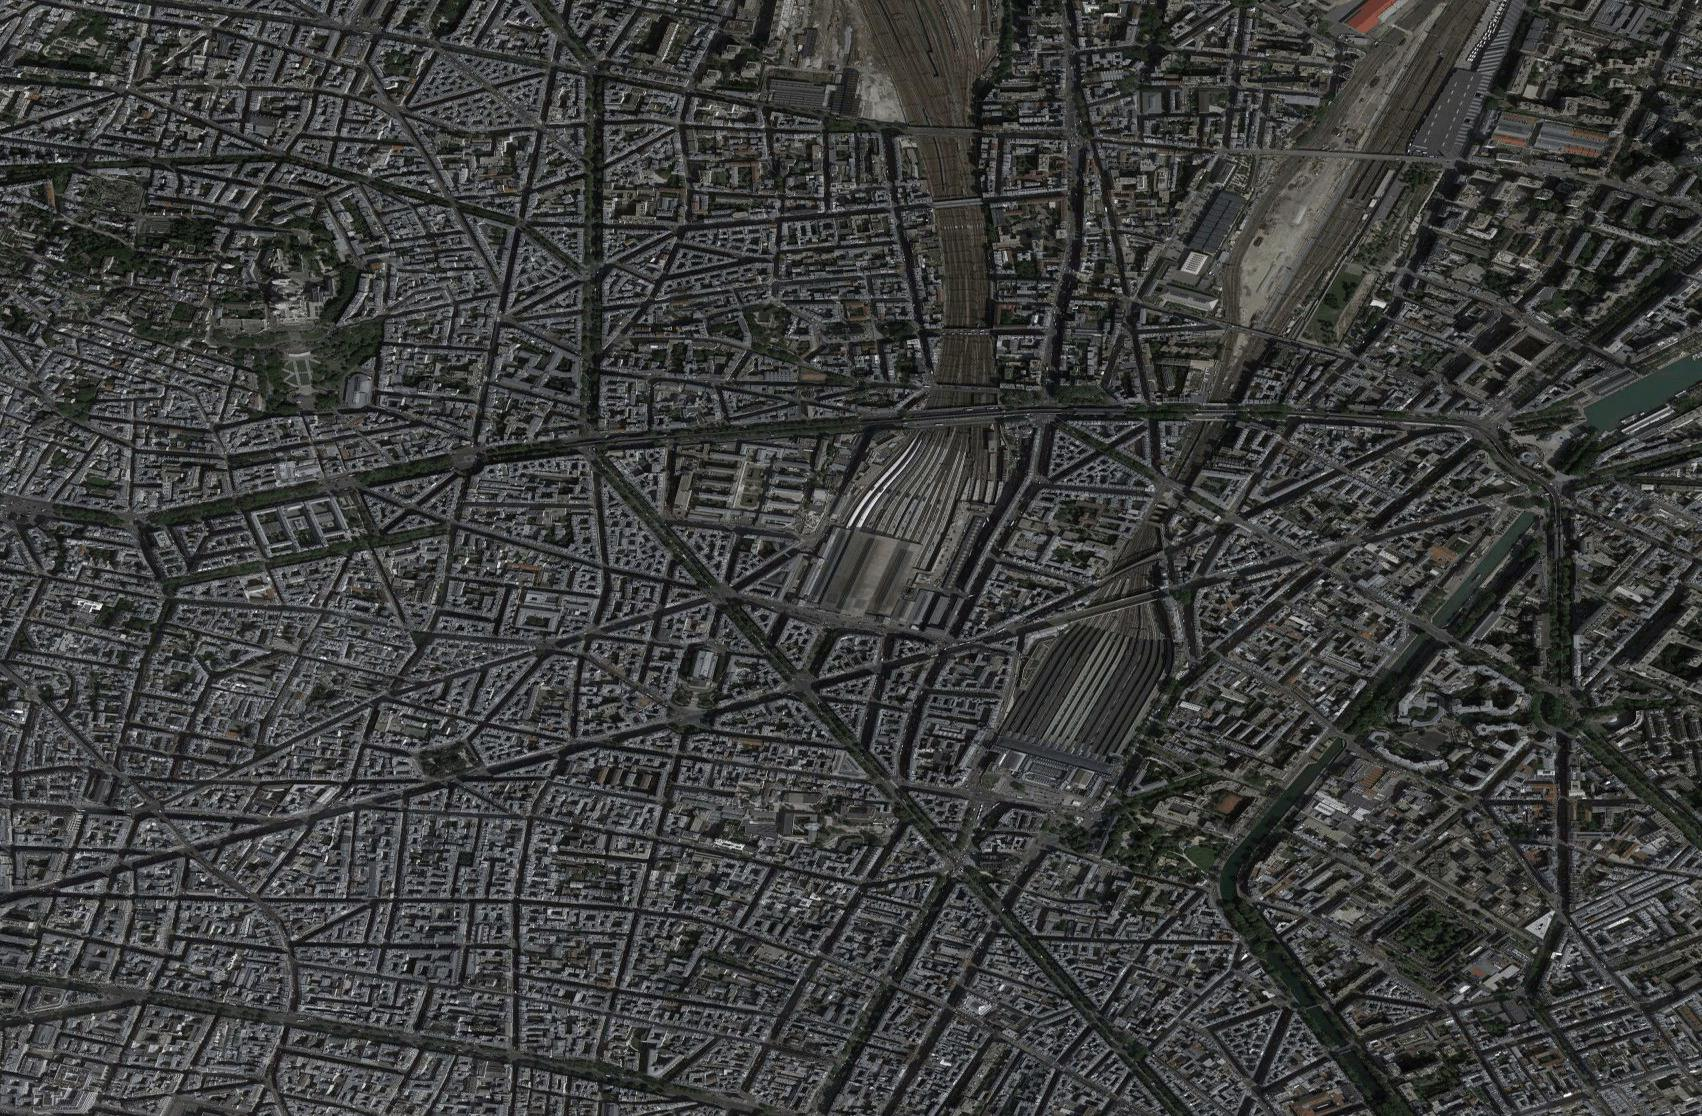bridge: (1416, 613, 1448, 641)
train_station: (801, 427, 982, 643), (1006, 622, 1169, 776)
